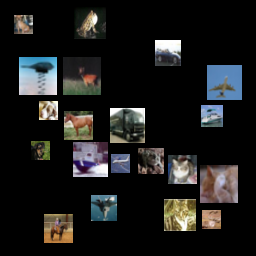airplane: (5, 160, 37, 192), (107, 127, 123, 143)
automobile: (65, 130, 84, 149)
cat: (62, 51, 94, 83), (144, 54, 170, 80)
deer: (181, 11, 216, 46), (51, 190, 86, 225), (178, 206, 210, 238), (86, 14, 112, 40), (26, 23, 52, 49)
dog: (147, 116, 169, 138), (178, 157, 197, 176)
frog: (202, 100, 224, 122), (135, 1, 154, 20)
ship: (75, 152, 104, 181), (95, 69, 117, 91), (7, 60, 26, 79)
